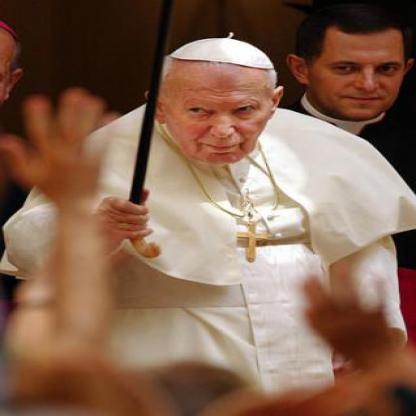face: (165, 47, 275, 166), (310, 13, 411, 121)
